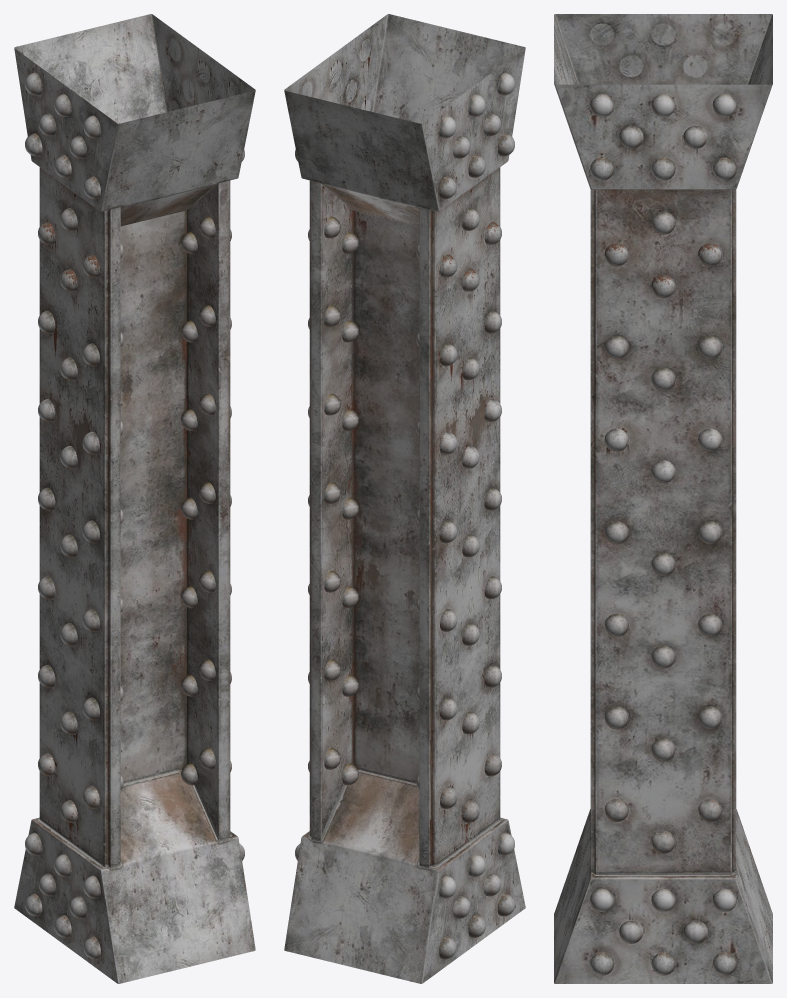
File: SM_Beam_Vertical_100u.glb
The picture shows the model from 3 angles, left to right: view 1: azimuth 30°, elevation 25°; view 2: azimuth 150°, elevation 25°; view 3: azimuth 270°, elevation 25°; orthographic projection. The views are drawn at different scales.
Parts seen in each view (by area): view 1: SM_Beam_Vertical_100u; view 2: SM_Beam_Vertical_100u; view 3: SM_Beam_Vertical_100u.
Boxes of the visible parts, bbox=[...] form: SM_Beam_Vertical_100u: bbox=[14, 14, 255, 983]; SM_Beam_Vertical_100u: bbox=[284, 14, 525, 983]; SM_Beam_Vertical_100u: bbox=[554, 14, 772, 983].
Size of the model in its own units: 0.656 by 3.4 by 0.75.
1 material, 1 textured.
